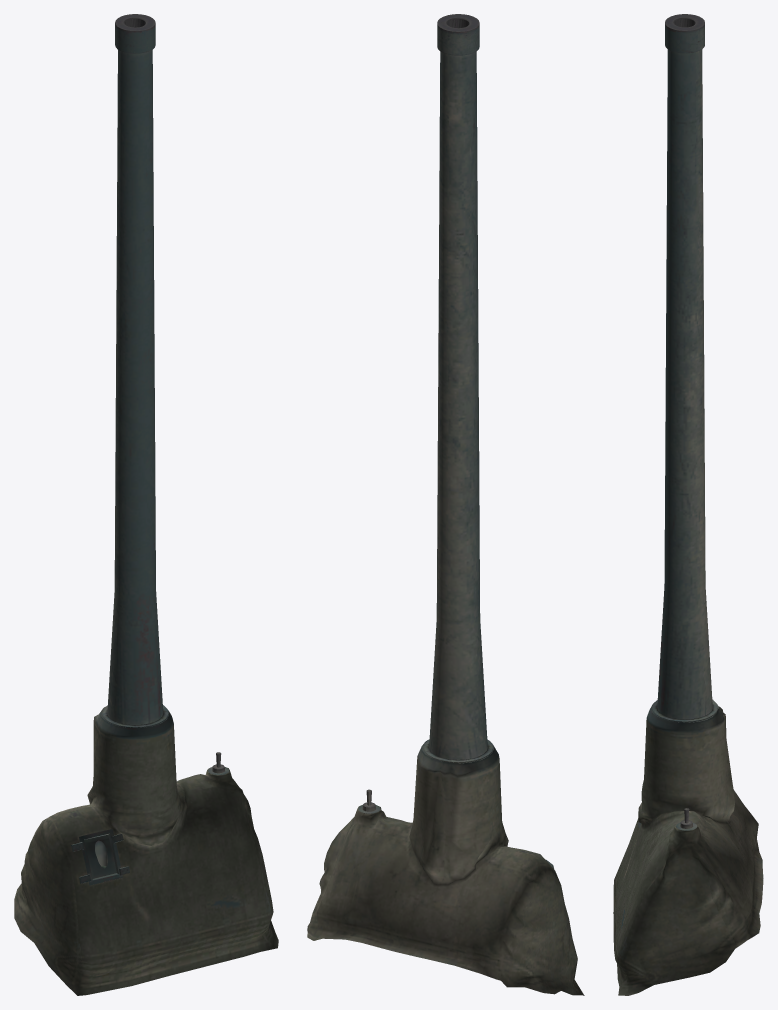
File: Gun_05.glb
The picture shows the model from 3 angles, left to right: view 1: azimuth 30°, elevation 25°; view 2: azimuth 150°, elevation 25°; view 3: azimuth 270°, elevation 25°; orthographic projection. The views are drawn at different scales.
Parts seen in each view (by area): view 1: set_0_group_0; view 2: set_0_group_0; view 3: set_0_group_0.
Part boxes in pixels (<box>): set_0_group_0: <box>14,14,278,995</box>; set_0_group_0: <box>307,14,584,995</box>; set_0_group_0: <box>613,14,763,995</box>.
Size of the model in its own units: 1.67 by 6.46 by 0.9539.
1 material, 1 textured.
